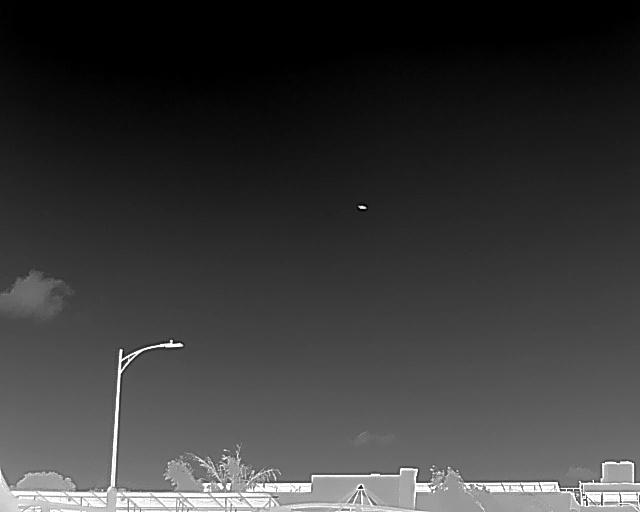fpv-drone: (357, 204, 368, 211)
